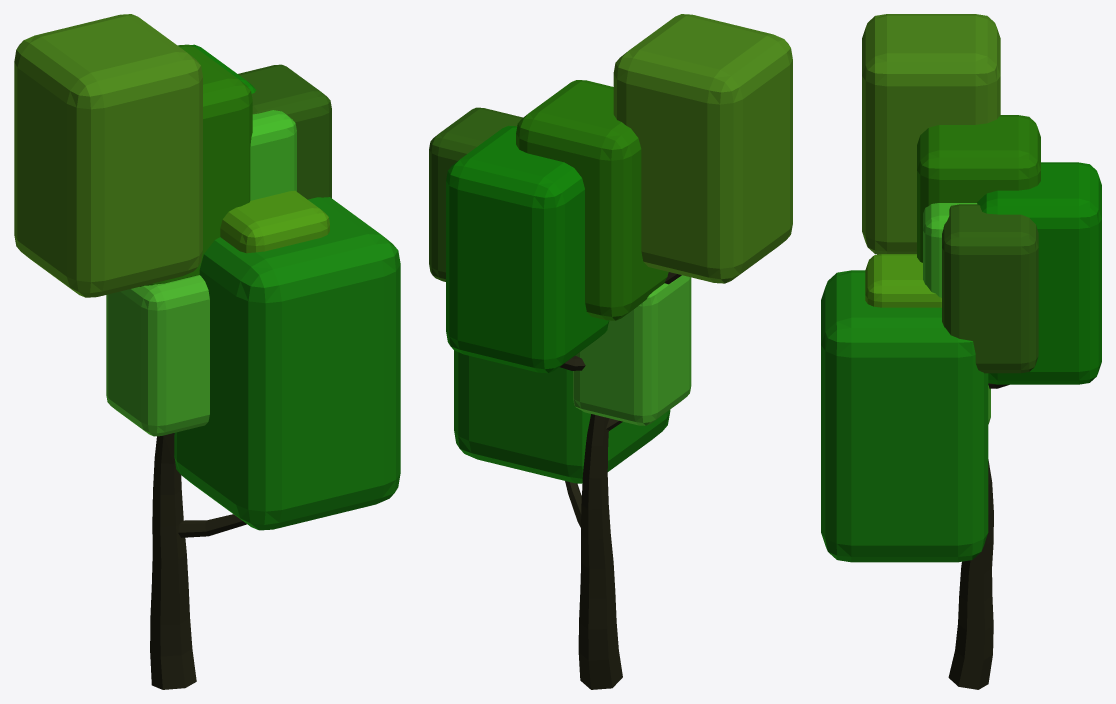
File: Tree4_V2.fbx
3 renders of one model, left to right at view 1: azimuth 30°, elevation 25°; view 2: azimuth 150°, elevation 25°; view 3: azimuth 270°, elevation 25°, orthographic. The views are drawn at different scales.
Visible parts, largest first — view 1: OUT_TREE; view 2: OUT_TREE; view 3: OUT_TREE.
Boxes of the visible parts, x1=… form: OUT_TREE: x1=14, y1=14, x2=400, y2=689; OUT_TREE: x1=429, y1=14, x2=792, y2=689; OUT_TREE: x1=821, y1=14, x2=1101, y2=689.
Bounding box in the file's own units: 0.7941 × 1.66 × 0.6906.
